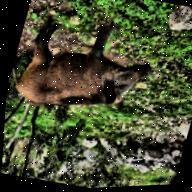boar: (4, 2, 163, 131)
